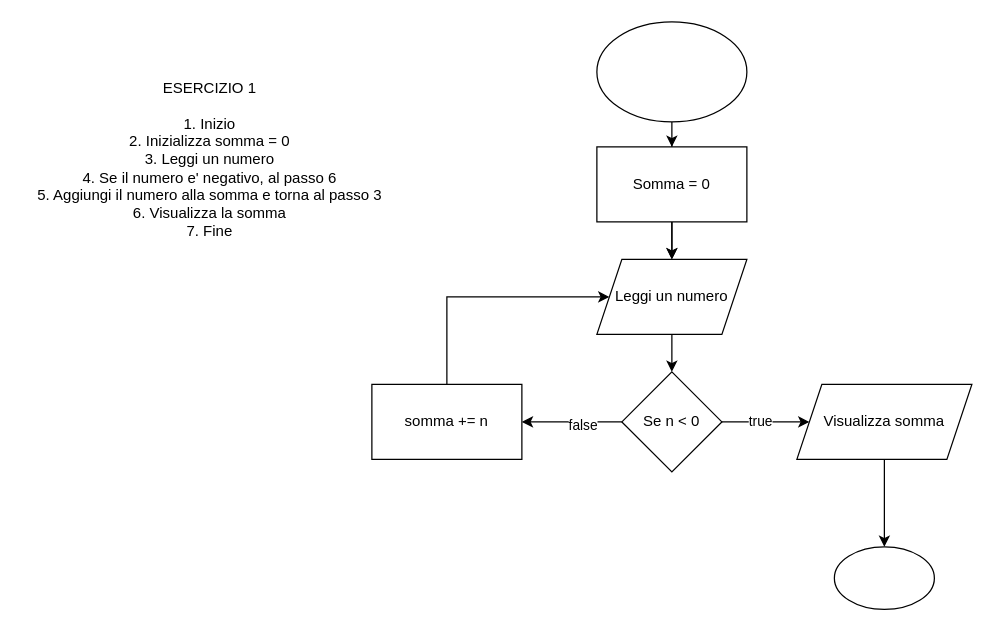
Some shapes in this 994 by 631 pixel diagram are drawn without their labels. Each missing label, with the centre of its shape:
"Fine" goes at pixel 883 577.
"Inizio" goes at pixel 671 71.
